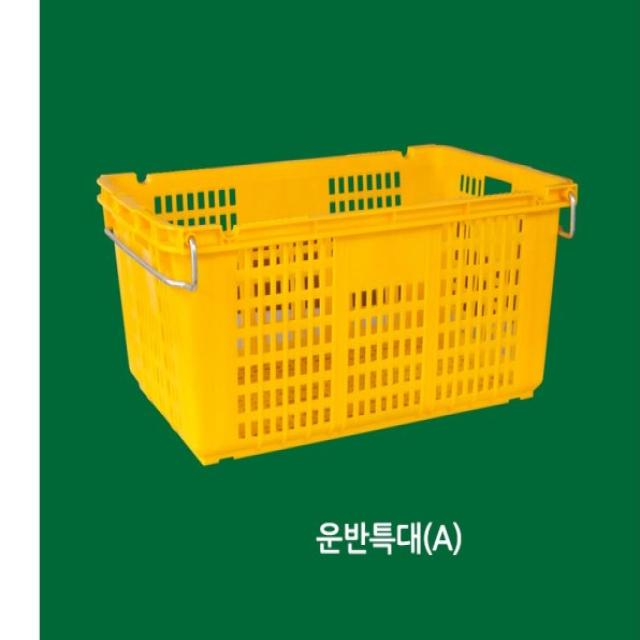basket: (95, 124, 604, 474)
